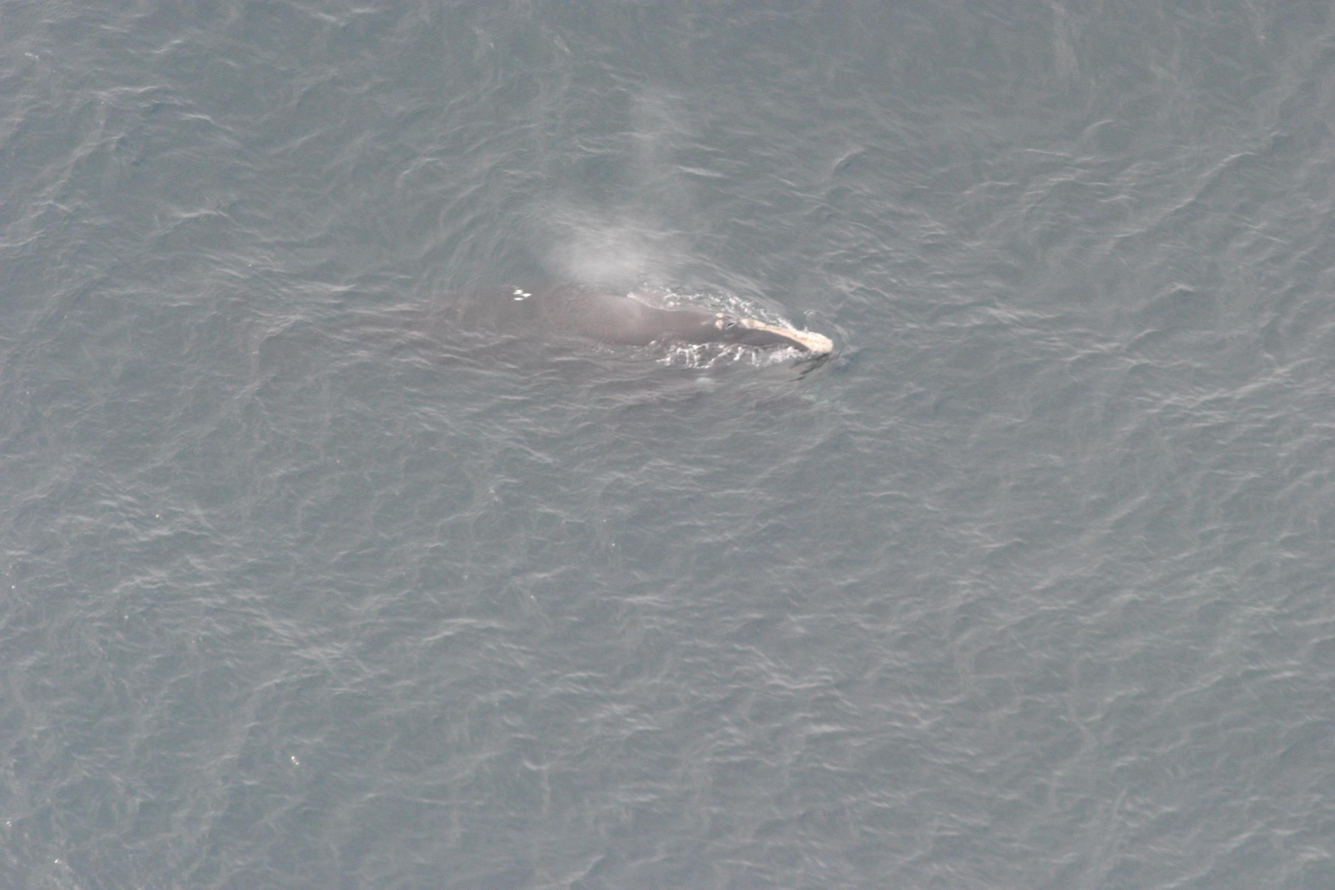whale: (424, 253, 864, 413)
